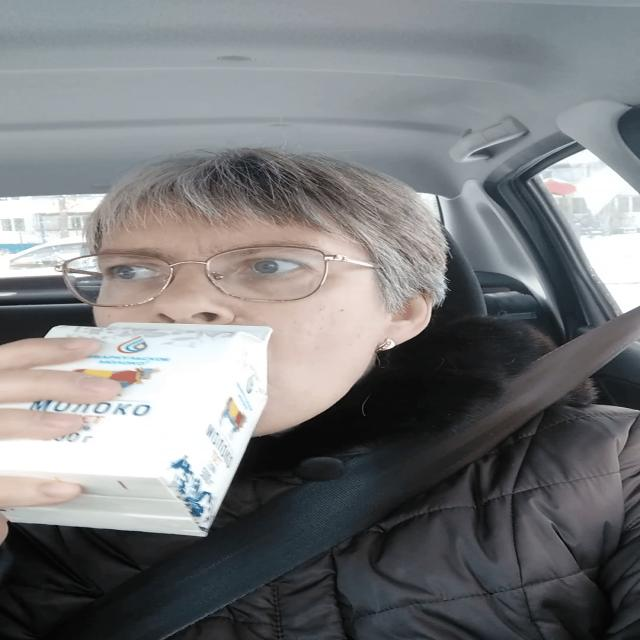3: (46, 307, 640, 640)
Seatbelt: (5, 309, 277, 544)
